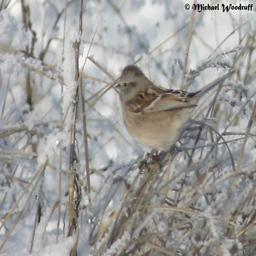Sparrow: (114, 63, 236, 173)
